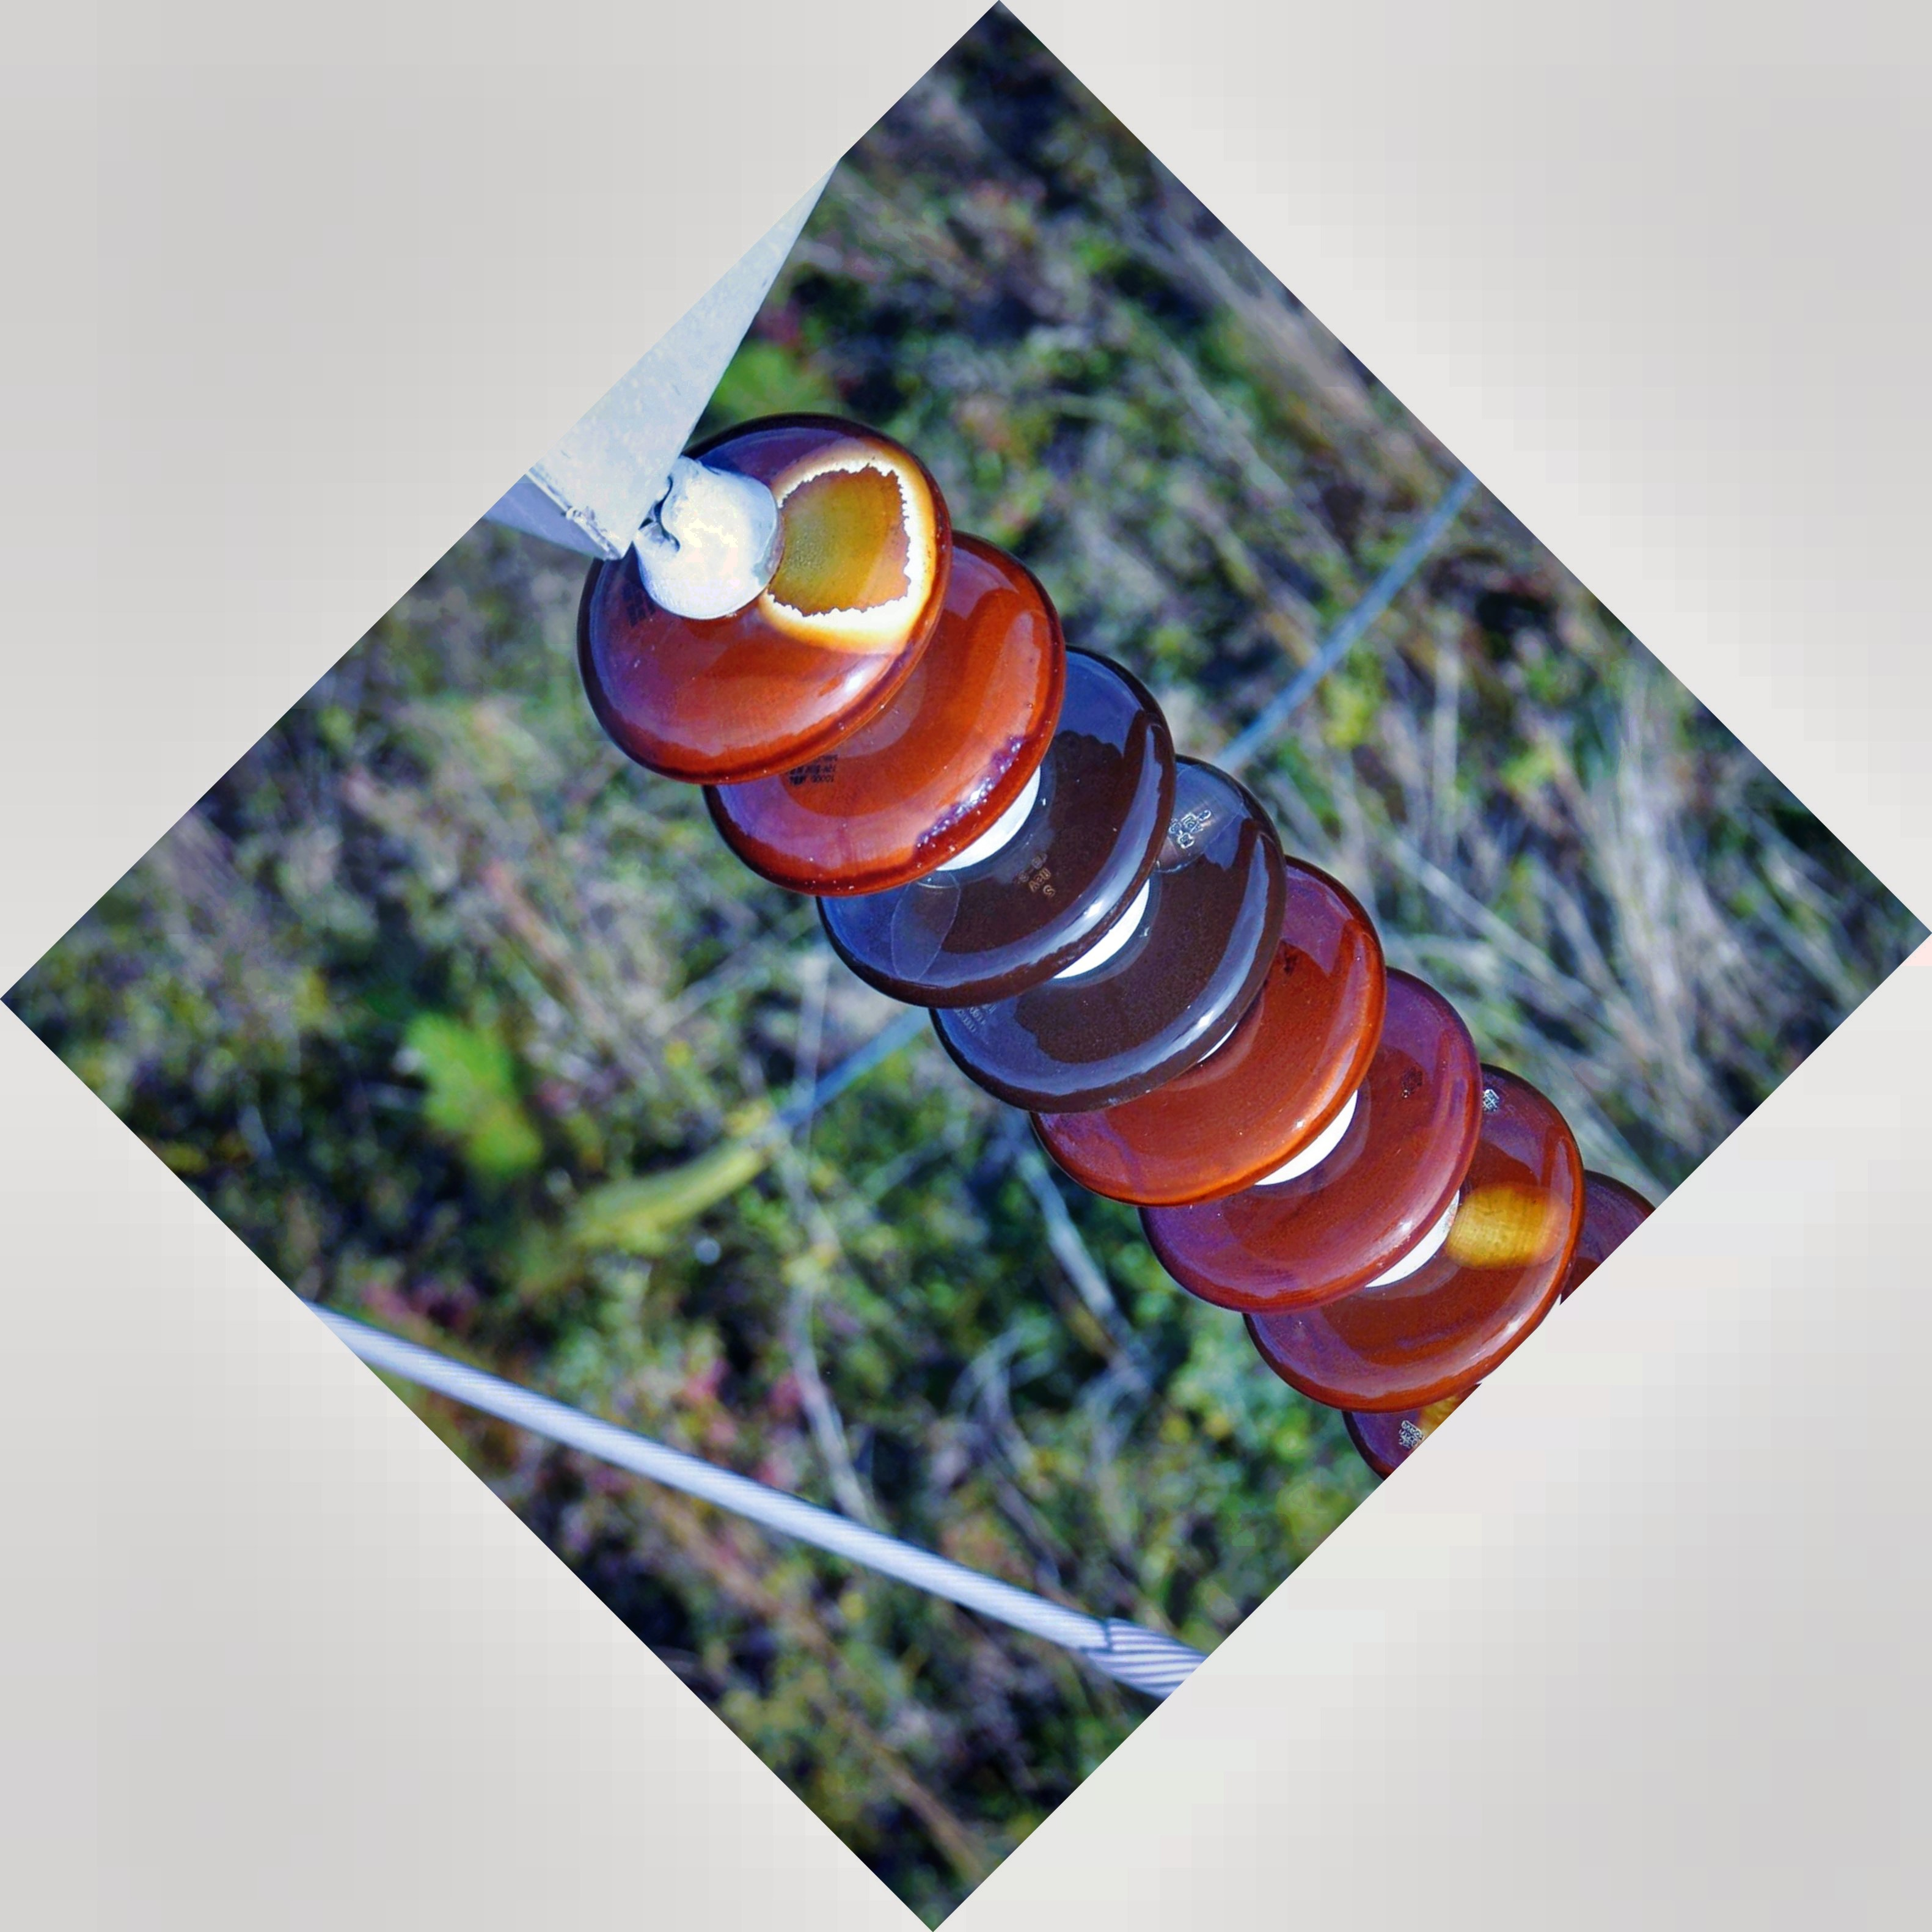Insulator flashover: (540, 370, 970, 786)
